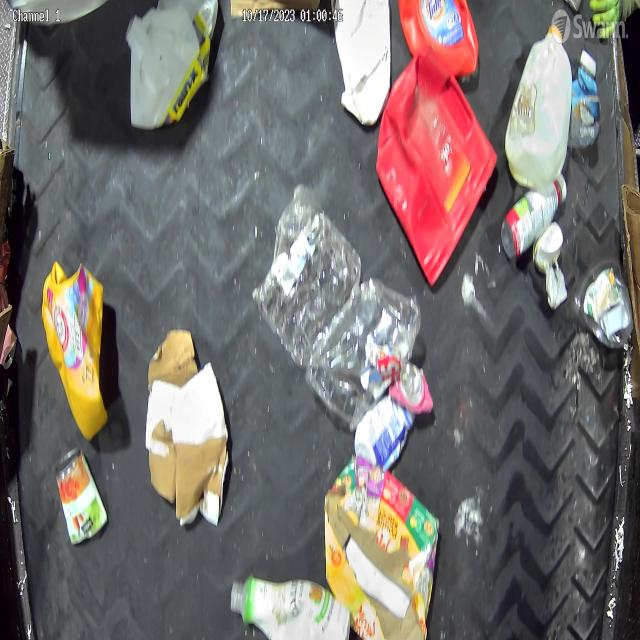can: (52, 444, 108, 548), (389, 359, 434, 419)
milk_jug: (127, 6, 213, 133), (506, 31, 572, 187), (330, 0, 391, 127)
non_white_jug: (376, 51, 498, 286), (41, 260, 109, 442), (396, 2, 480, 80)
